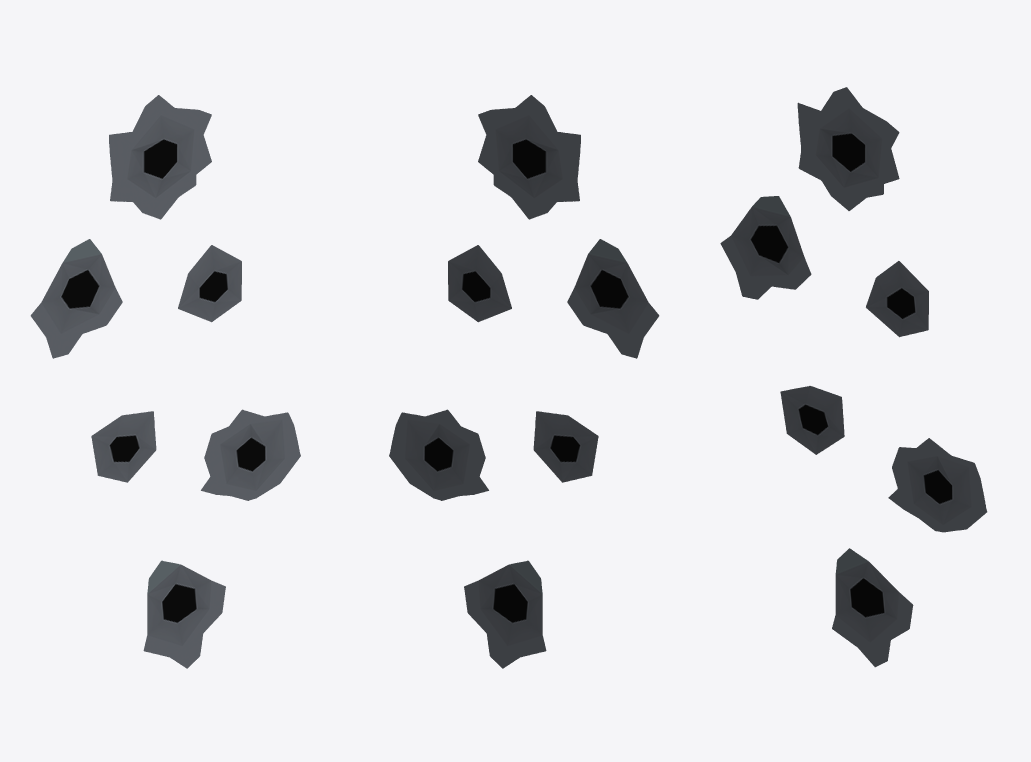
Rendered from SM_Prop_Decal_Metal_06.fbx.
3 renders of one model, left to right at view 1: azimuth 30°, elevation 25°; view 2: azimuth 150°, elevation 25°; view 3: azimuth 330°, elevation 25°, orthographic.
Visible parts, largest first — view 1: SM_Prop_Decal_Metal_06; view 2: SM_Prop_Decal_Metal_06; view 3: SM_Prop_Decal_Metal_06.
Part boxes in pixels (left/top/right/bottom): SM_Prop_Decal_Metal_06: left=30, top=95, right=300, bottom=668; SM_Prop_Decal_Metal_06: left=389, top=95, right=659, bottom=668; SM_Prop_Decal_Metal_06: left=720, top=87, right=987, bottom=667.
Bounding box in the file's own units: 36.03 × 72.38 × 0.
